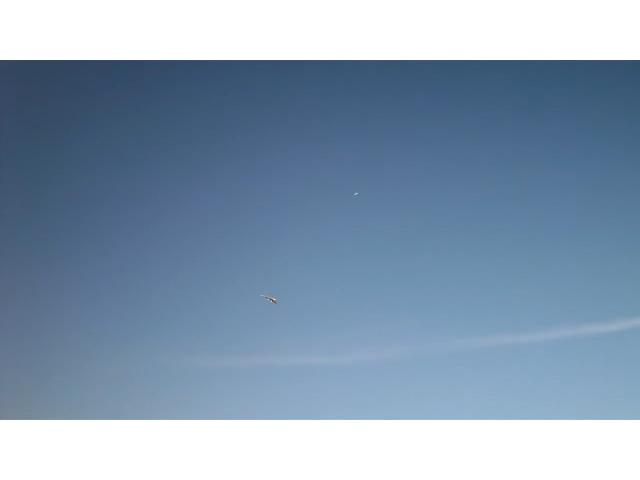Anti-Drone: (262, 296, 276, 304)
